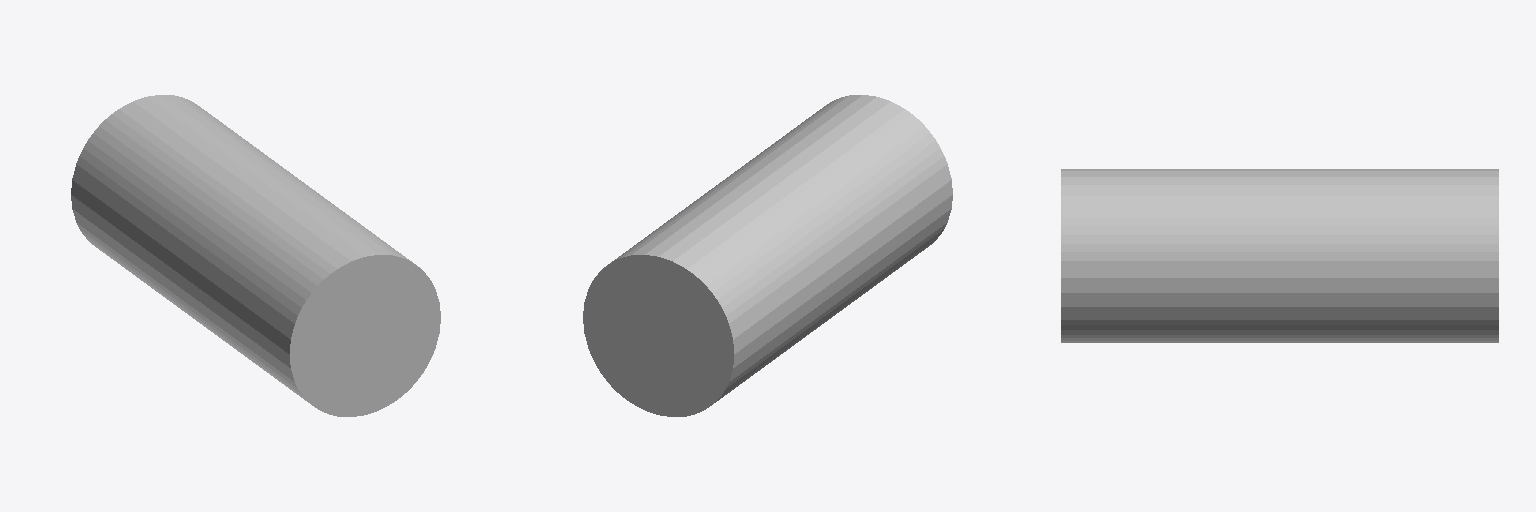
Rendered from shaft2.obj.
3 views of the same model, side by side, from view 1: azimuth 30°, elevation 25°; view 2: azimuth 150°, elevation 25°; view 3: azimuth 270°, elevation 25° (orthographic).
Size of the model in its own units: 0.04 by 0.04 by 0.1.